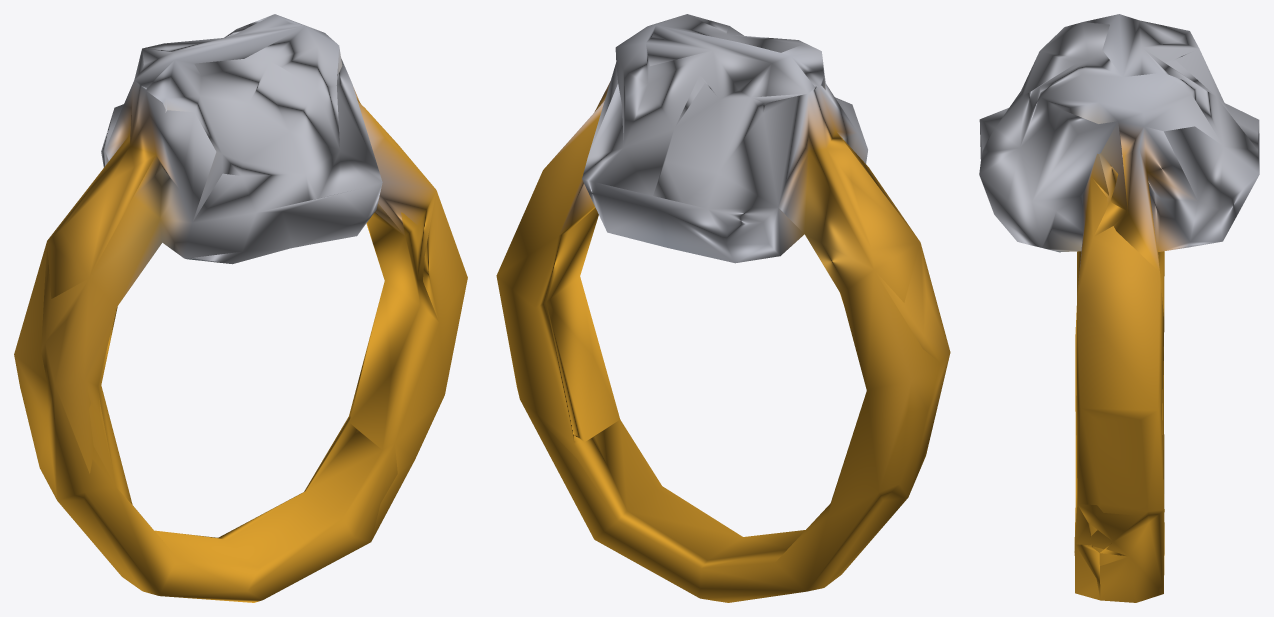
Rendered from gen3d-diamond-ring-lod1.glb.
3 views of the same model, side by side, from view 1: azimuth 30°, elevation 25°; view 2: azimuth 150°, elevation 25°; view 3: azimuth 270°, elevation 25° (orthographic). The views are drawn at different scales.
Visible parts, largest first — view 1: part_0; view 2: part_0; view 3: part_0.
Boxes of the visible parts, x1=… form: part_0: x1=14, y1=14, x2=467, y2=602; part_0: x1=496, y1=14, x2=950, y2=602; part_0: x1=979, y1=14, x2=1259, y2=602.
Size of the model in its own units: 0.7816 by 0.9936 by 0.4678.
